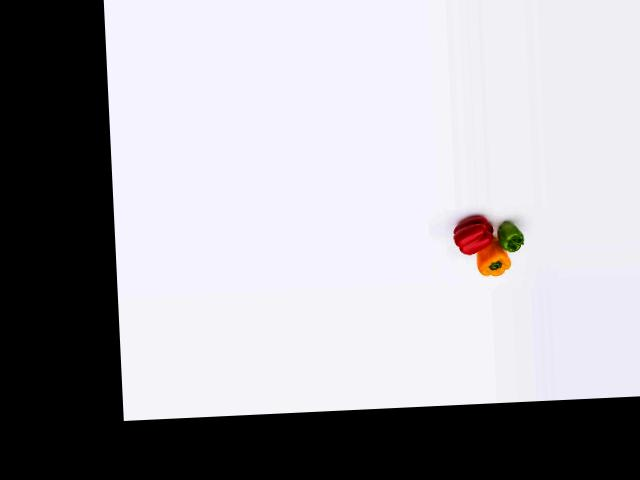bell_pepper: (495, 219, 531, 255)
